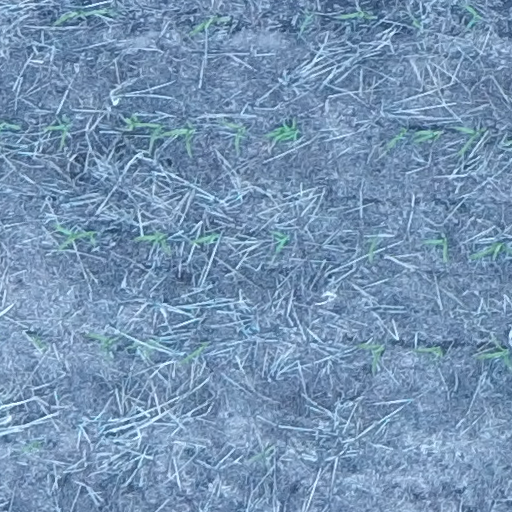planta: (159, 127, 193, 157), (130, 121, 163, 151), (88, 331, 122, 360), (454, 126, 485, 157), (55, 8, 111, 25), (356, 343, 385, 371), (220, 120, 247, 150), (420, 236, 448, 262), (134, 232, 170, 252), (181, 340, 209, 364), (191, 16, 228, 34), (53, 223, 76, 250), (386, 126, 410, 151), (46, 123, 67, 148), (339, 7, 374, 20), (464, 4, 481, 29), (272, 231, 289, 254), (412, 345, 443, 357), (413, 130, 439, 144), (75, 231, 95, 245), (367, 236, 378, 261), (191, 234, 217, 244)
